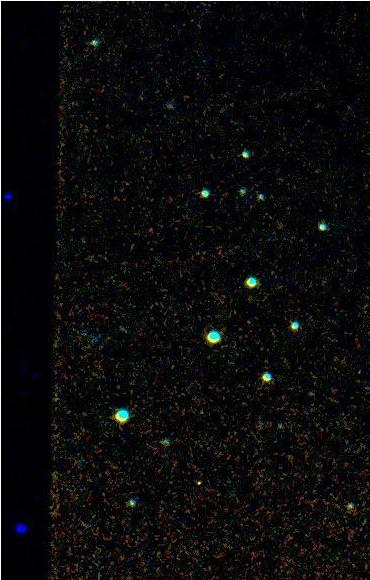star: (184, 467, 214, 497)
